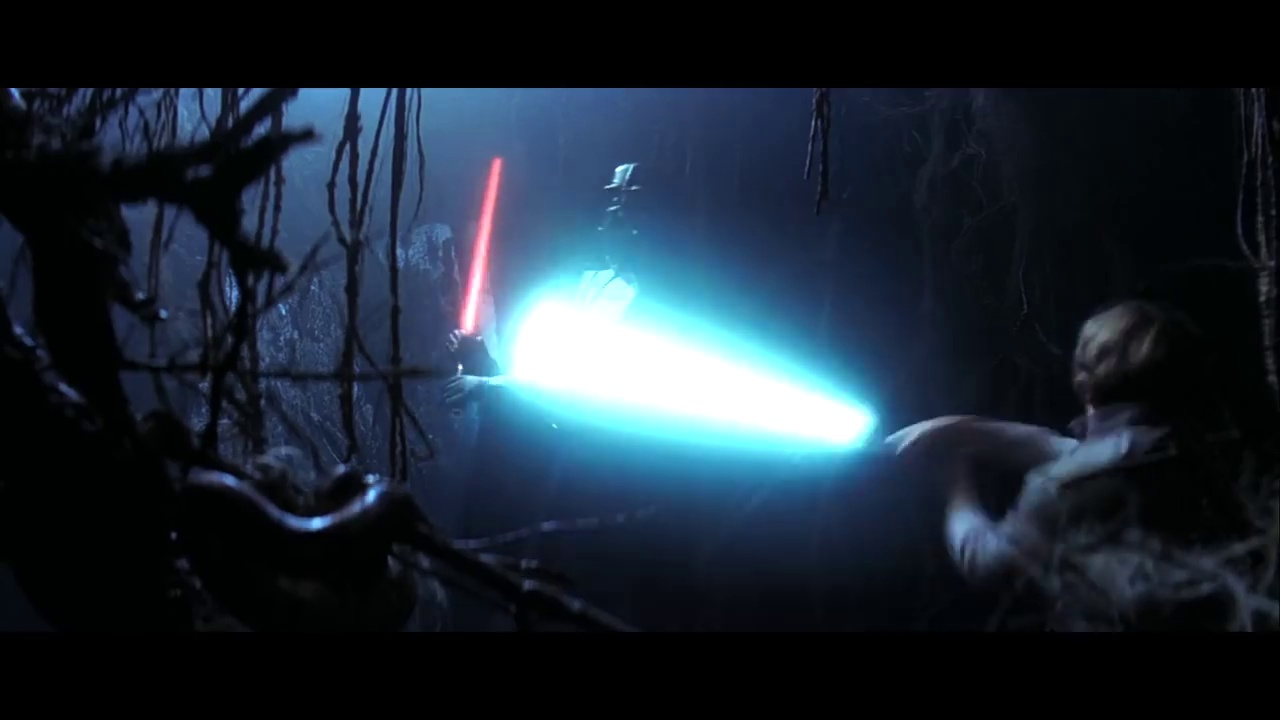lightsaber: (444, 157, 508, 381)
